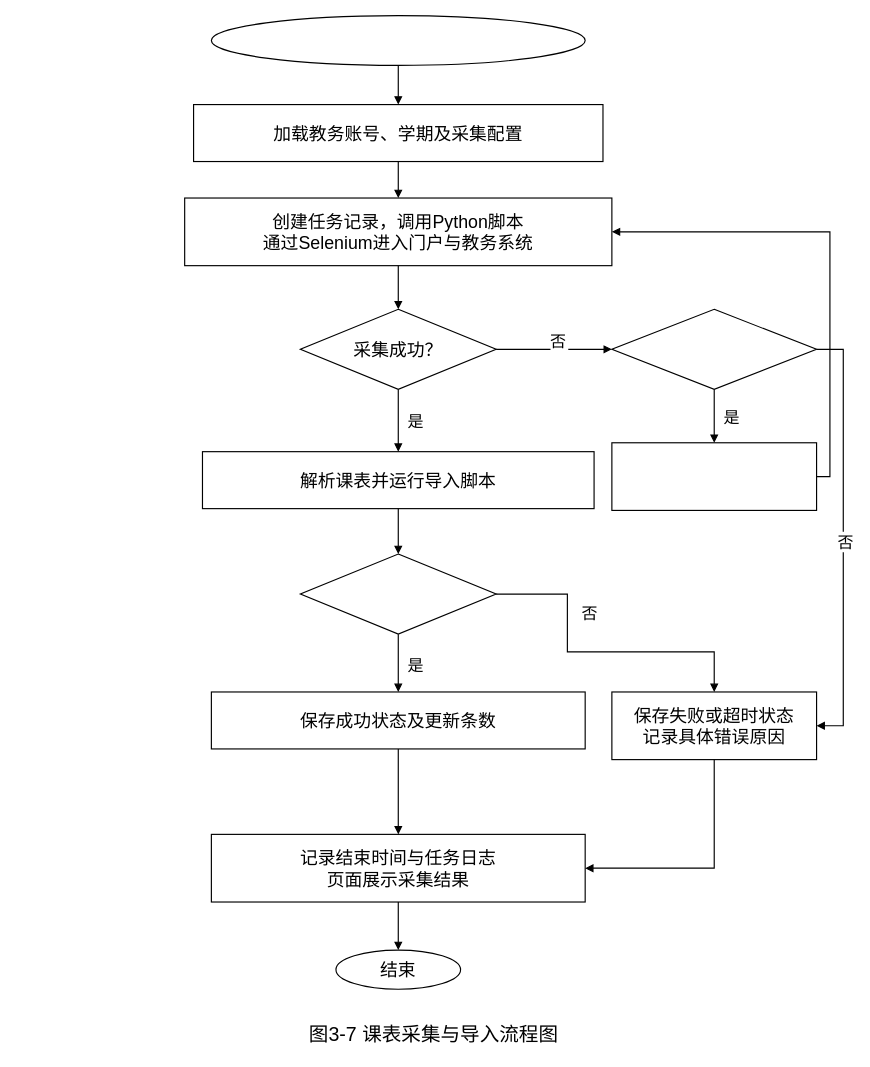
Some shapes in this 870 by 1067 pixel diagram are drawn without their labels. The centre of each missing label's shape, as x and y in pixels:
"允许限定重试？" goes at (x=714, y=349).
"导入成功？" goes at (x=397, y=593).
"手动采集 / 定时任务触发" goes at (x=397, y=40).
"按策略进行可见授权 或限定次数重试" goes at (x=714, y=476).
